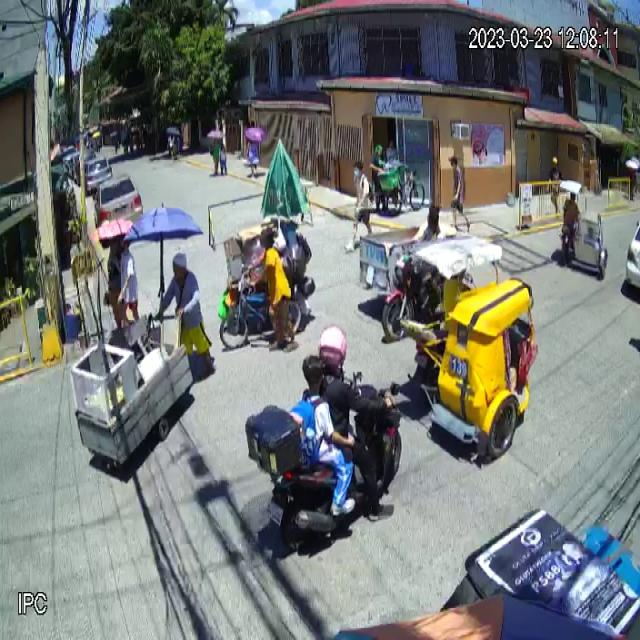Tricycle: (401, 230, 542, 468)
